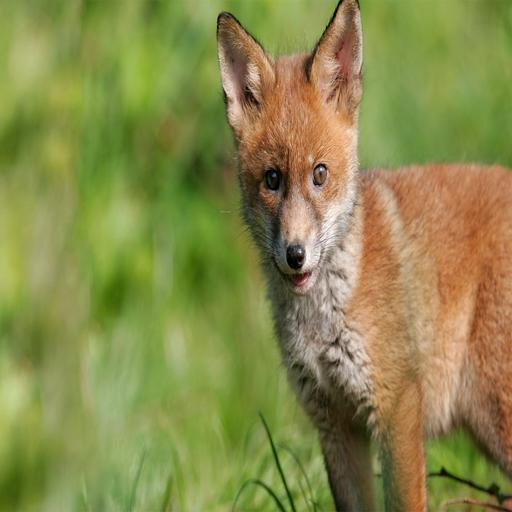Fox: (215, 0, 512, 505)
